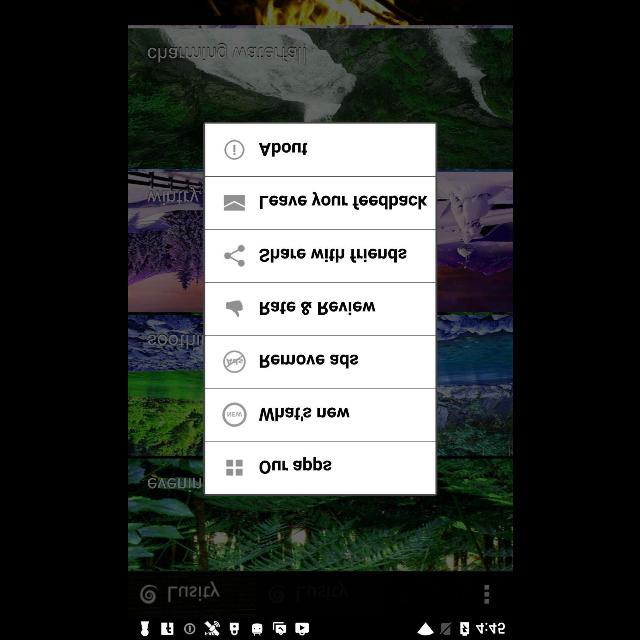icon: (223, 245, 244, 267), (223, 140, 244, 160), (223, 194, 245, 212), (225, 459, 242, 476), (483, 584, 489, 604)
image: (222, 403, 246, 427), (222, 351, 245, 374), (139, 584, 159, 604), (225, 300, 243, 318)
panel: (203, 122, 437, 496)
text: (147, 43, 305, 63), (259, 191, 427, 209), (258, 248, 406, 262), (259, 301, 375, 315), (259, 354, 357, 368), (258, 456, 332, 474), (258, 407, 349, 421), (167, 581, 219, 601), (258, 142, 306, 156)
uppertaskbar: (128, 617, 512, 639)
